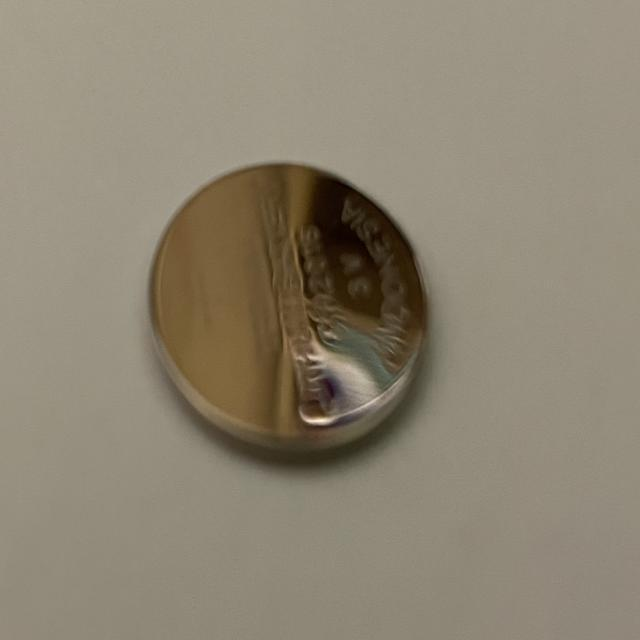COIN: (143, 157, 433, 465)
